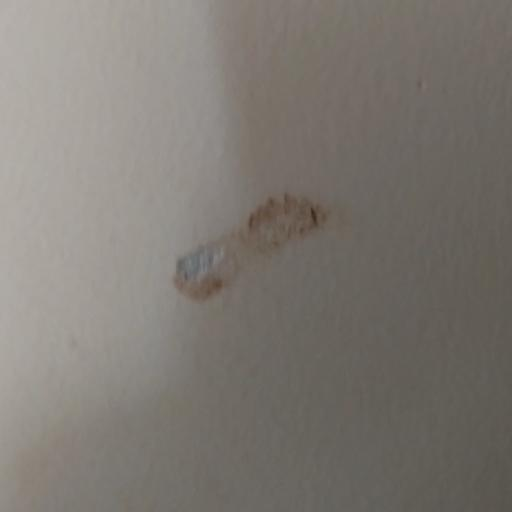stain: (158, 157, 350, 352)
